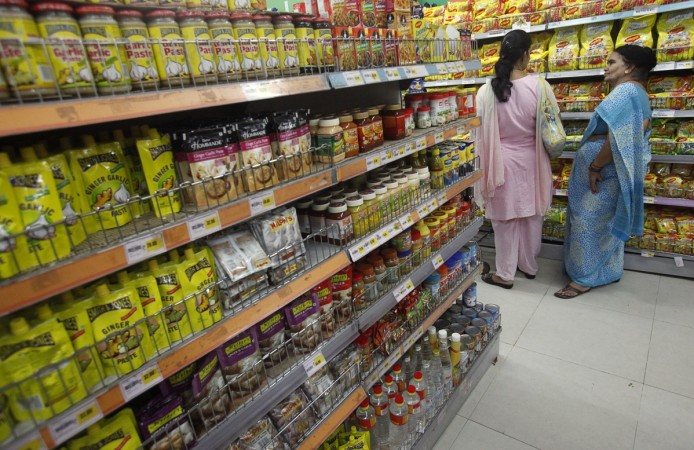Age_above_50: (601, 48, 650, 83)
E_Indian: (601, 48, 650, 83)
Emotion_Sad: (601, 48, 650, 83)
G_ Female: (601, 48, 650, 83)
Not_Face: (503, 33, 535, 71)
